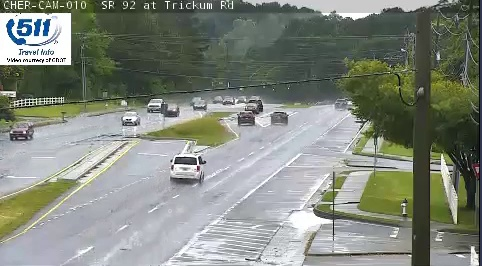car: (170, 155, 203, 179), (237, 112, 254, 126), (271, 112, 288, 125)
